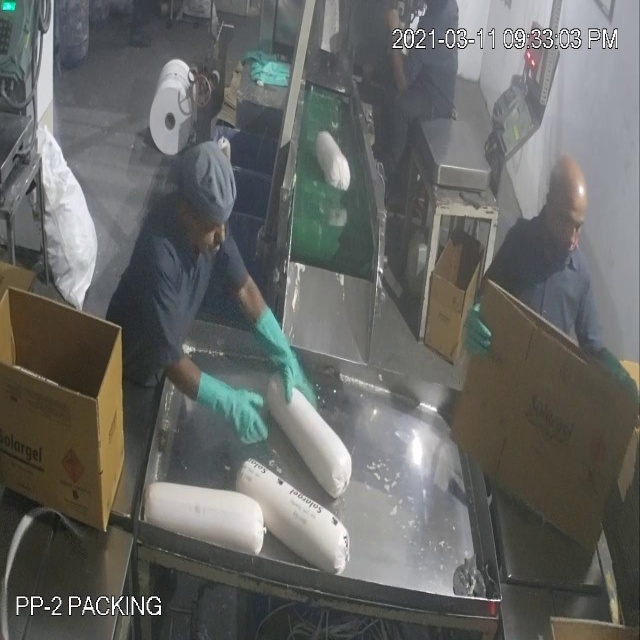Guantes: (250, 298, 318, 428), (190, 359, 267, 460)
Sin_guantes: (380, 5, 416, 87)
